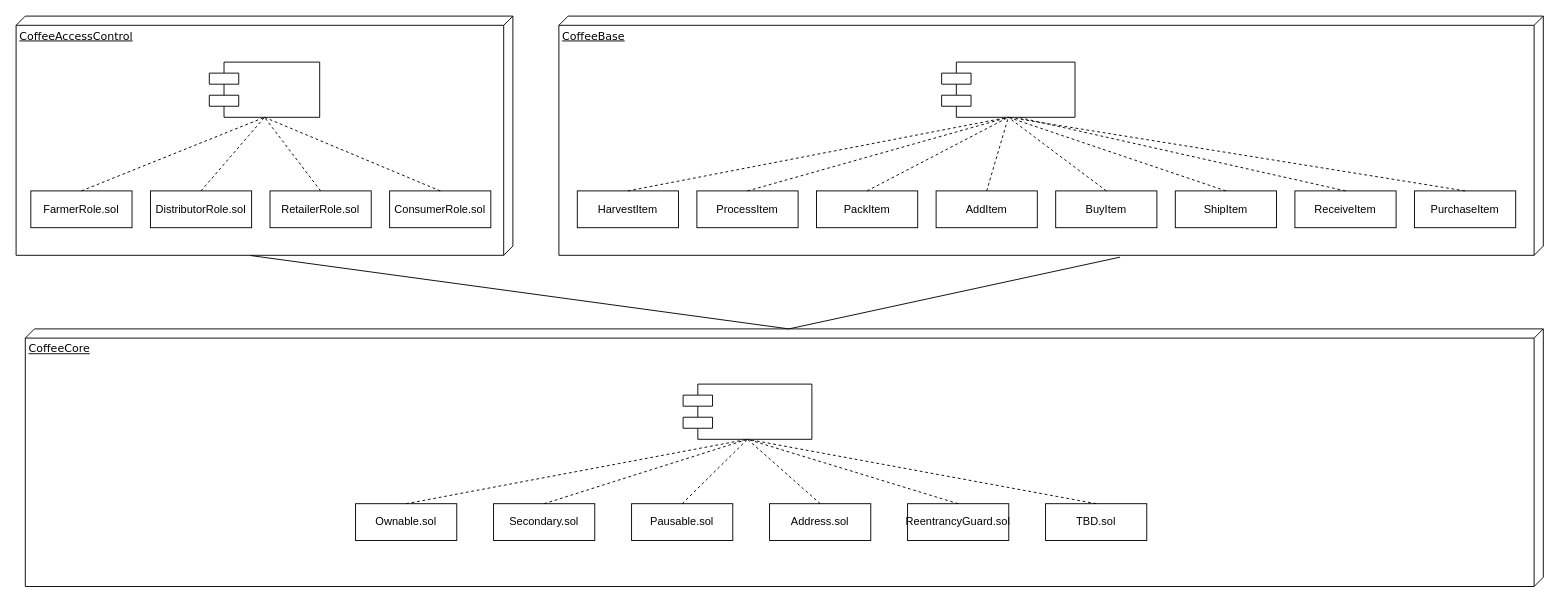
The diagram is 1559 pixels wide and 603 high, and some of its shapes have lost their labels. The centre of each missing label's shape, as x and y in pixels:
"Roles.sol" goes at point (264, 89).
"SupplyChain.sol" goes at point (1008, 89).
"ValueChain.sol" goes at point (747, 411).
